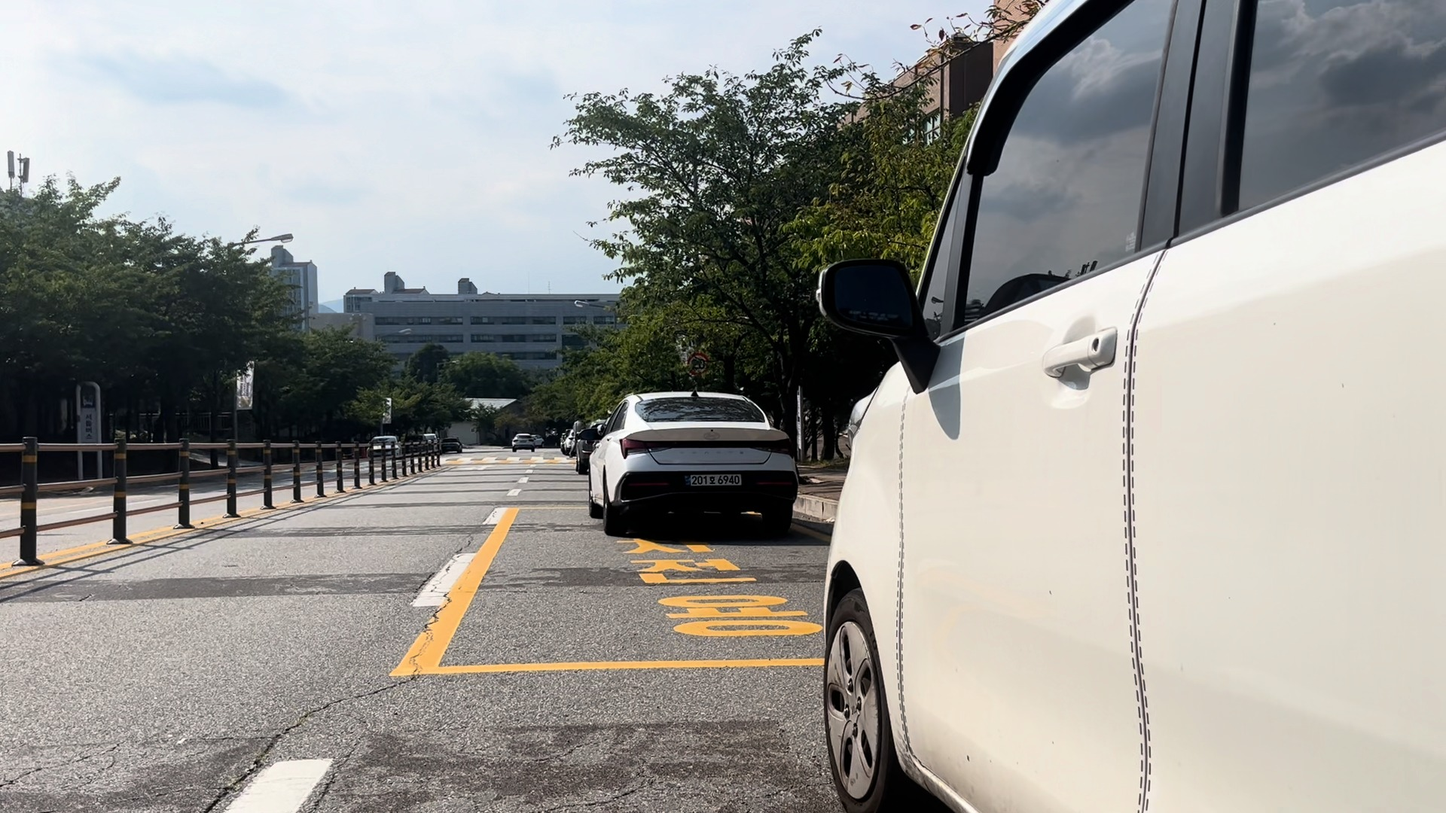door_handle: (1042, 328, 1117, 377)
side_mirror: (817, 260, 938, 392)
tail_light: (620, 437, 670, 457), (754, 438, 795, 457)
